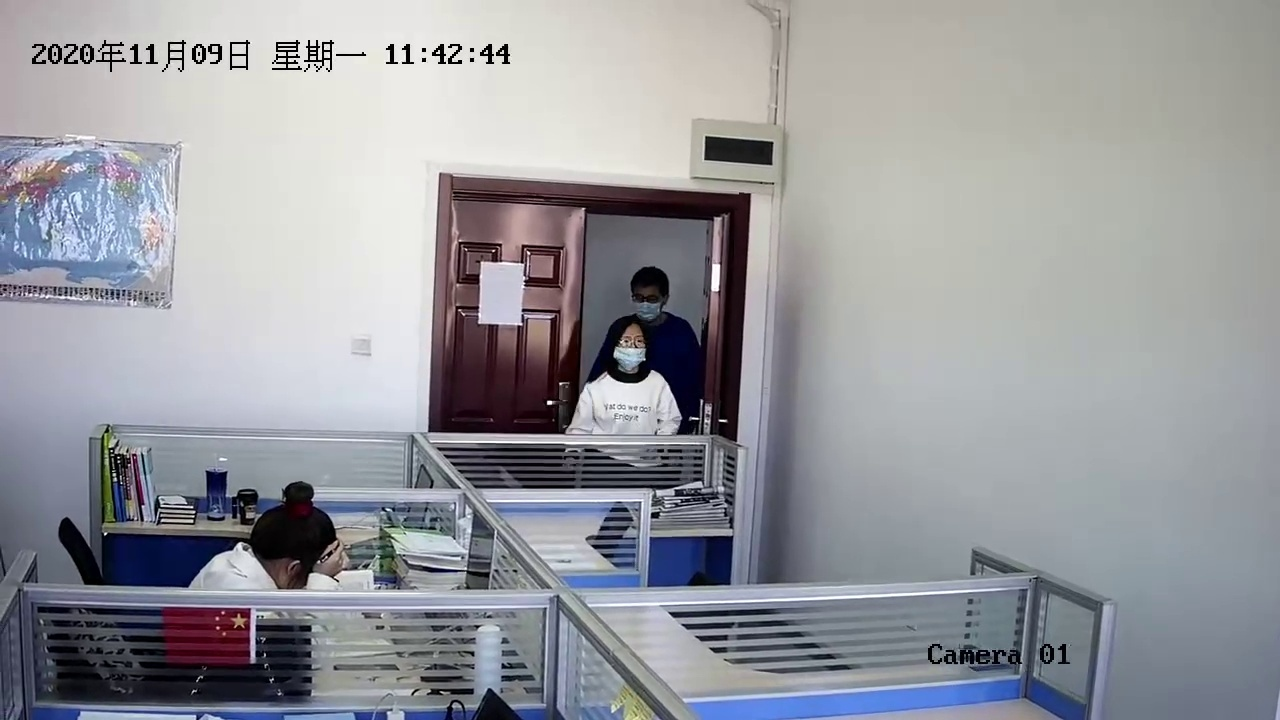mask: (614, 318, 653, 373), (635, 263, 670, 324)
